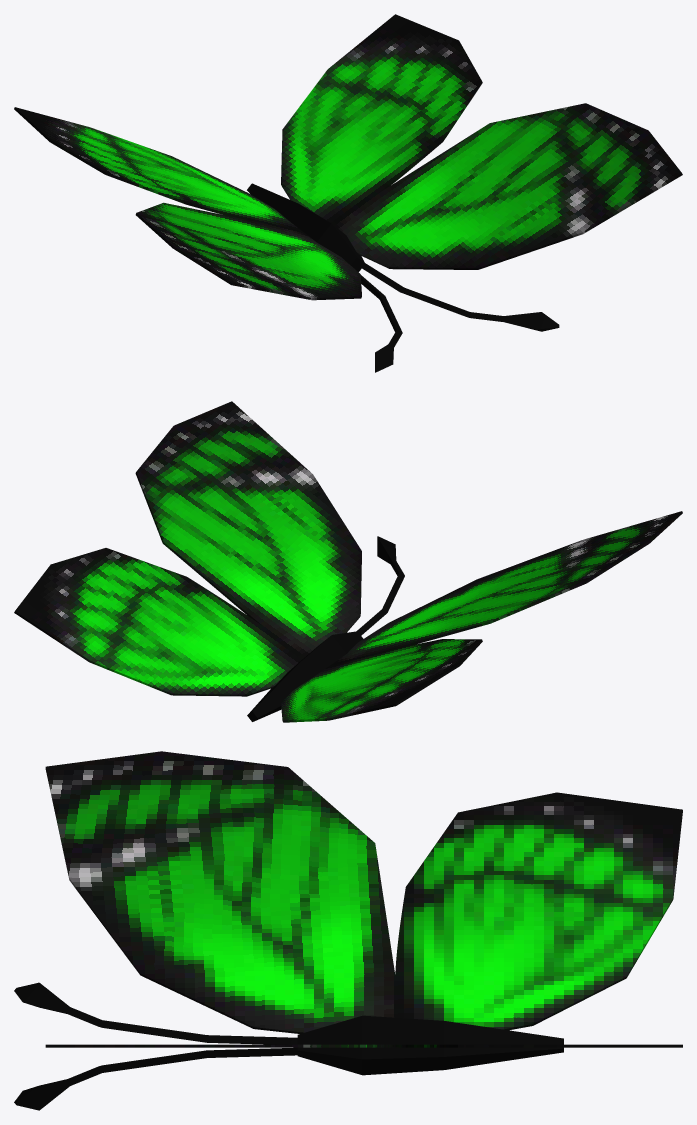
File: Personage_Butterfly_green.FBX
The picture shows the model from 3 angles, top to bottom: view 1: azimuth 30°, elevation 25°; view 2: azimuth 150°, elevation 25°; view 3: azimuth 270°, elevation 25°; orthographic projection. The views are drawn at different scales.
Visible parts, largest first — view 1: Body; view 2: Body; view 3: Body.
Boxes of the visible parts, bbox=[...] form: Body: bbox=[14, 14, 682, 372]; Body: bbox=[14, 401, 682, 722]; Body: bbox=[14, 751, 682, 1110].
Size of the model in its own units: 37.94 by 10.67 by 36.45.
